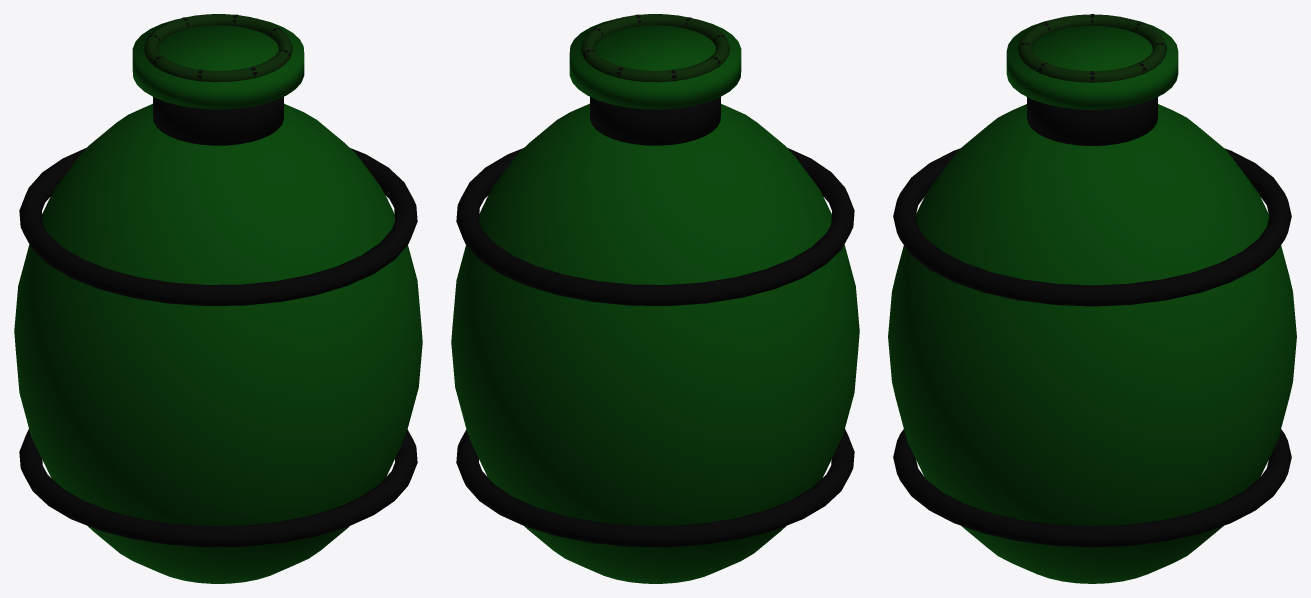
File: granada.glb
3 views of the same model, side by side, from view 1: azimuth 30°, elevation 25°; view 2: azimuth 150°, elevation 25°; view 3: azimuth 270°, elevation 25° (orthographic).
Parts seen in each view (by area): view 1: Cuerpo_Prop, Banda.003, Banda, Tapa, Cuello, Aro_Detalle; view 2: Cuerpo_Prop, Banda.003, Banda, Tapa, Cuello, Aro_Detalle; view 3: Cuerpo_Prop, Banda.003, Banda, Tapa, Cuello, Aro_Detalle.
Boxes of the visible parts, x1=… form: Cuerpo_Prop: x1=14, y1=103, x2=422, y2=583; Banda.003: x1=19, y1=148, x2=417, y2=305; Banda: x1=19, y1=429, x2=417, y2=547; Tapa: x1=132, y1=18, x2=304, y2=109; Cuello: x1=153, y1=97, x2=283, y2=145; Aro_Detalle: x1=144, y1=14, x2=292, y2=82; Cuerpo_Prop: x1=451, y1=103, x2=859, y2=583; Banda.003: x1=456, y1=148, x2=854, y2=305; Banda: x1=456, y1=429, x2=854, y2=547; Tapa: x1=569, y1=18, x2=741, y2=109; Cuello: x1=590, y1=97, x2=720, y2=145; Aro_Detalle: x1=581, y1=14, x2=729, y2=82; Cuerpo_Prop: x1=888, y1=104, x2=1296, y2=583; Banda.003: x1=893, y1=148, x2=1291, y2=306; Banda: x1=893, y1=429, x2=1291, y2=547; Tapa: x1=1006, y1=20, x2=1178, y2=109; Cuello: x1=1027, y1=97, x2=1157, y2=145; Aro_Detalle: x1=1018, y1=14, x2=1166, y2=82.
Bounding box in the file's own units: 2 × 2.83 × 2.
